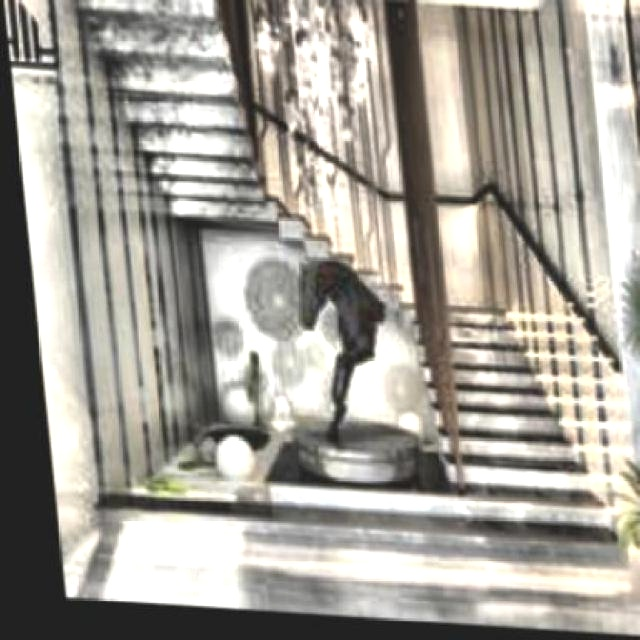stair: (412, 303, 603, 497)
